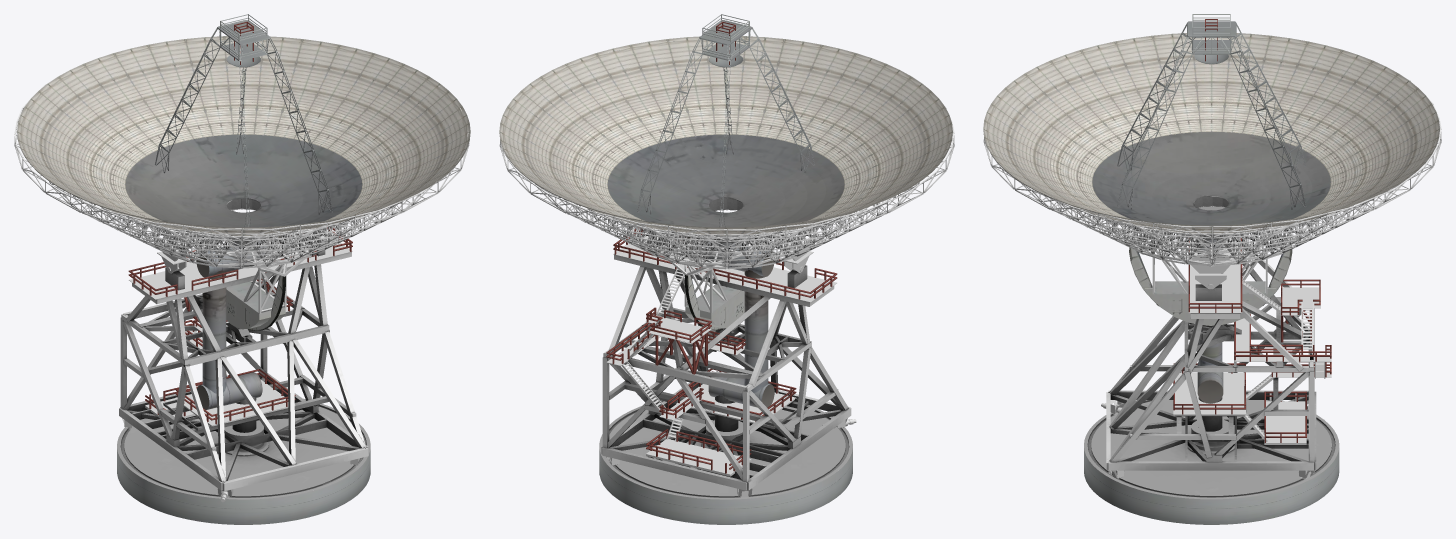
The model's file is space-dsn-34m.glb.
3 views of the same model, side by side, from view 1: azimuth 30°, elevation 25°; view 2: azimuth 150°, elevation 25°; view 3: azimuth 270°, elevation 25° (orthographic).
Visible parts, largest first — view 1: dish, azimuth, truss_dish, base; view 2: dish, azimuth, truss_dish, base; view 3: dish, azimuth, base, truss_dish.
Boxes of the visible parts, x1,y1,x2,y2 form: dish: (17, 36, 470, 235); azimuth: (117, 14, 370, 524); truss_dish: (14, 83, 469, 268); base: (117, 396, 370, 499); dish: (499, 36, 952, 235); azimuth: (599, 14, 856, 524); truss_dish: (499, 41, 954, 269); base: (599, 400, 852, 499); dish: (983, 33, 1439, 233); azimuth: (1084, 14, 1339, 524); base: (1084, 400, 1339, 499); truss_dish: (983, 60, 1441, 265).
Size of the model in its own units: 34.02 by 36.79 by 33.97.
Materials: 6 (5 with a texture image).
